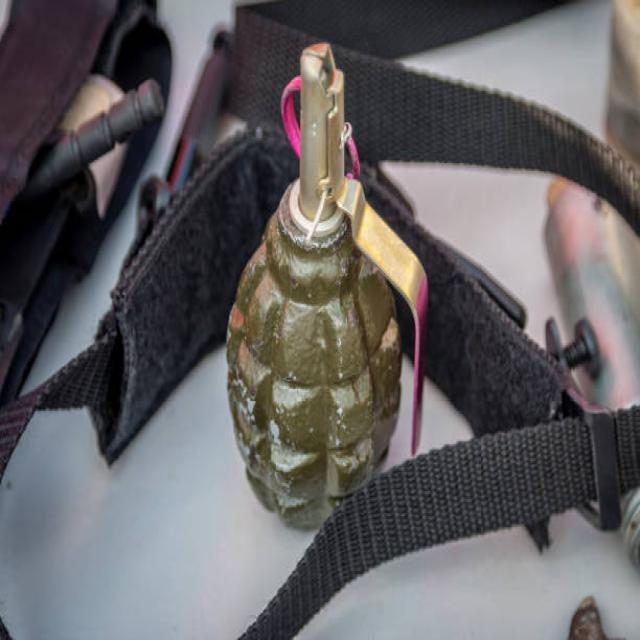grenade: (219, 32, 443, 537)
